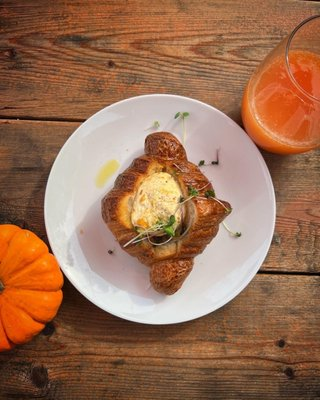soup: (100, 131, 234, 295)
taco: (240, 13, 320, 156)
